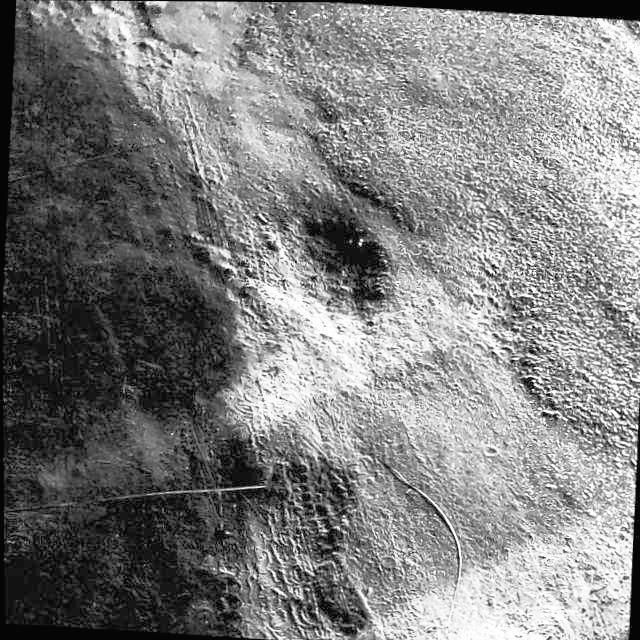Pothole: (258, 172, 398, 318)
